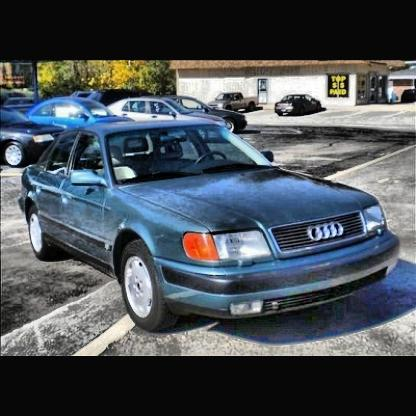Audi 100 Sedan 1994: (20, 121, 405, 334)
